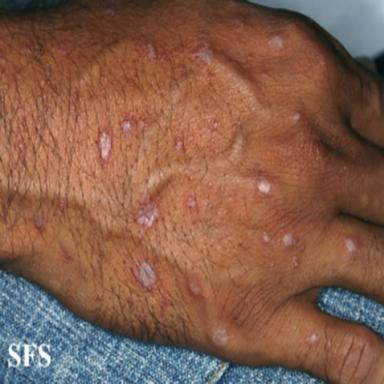lichen: (136, 203, 158, 227), (139, 262, 155, 288), (99, 131, 111, 159), (211, 328, 228, 346), (197, 45, 213, 64), (268, 36, 283, 50), (188, 281, 201, 296), (258, 180, 271, 194), (345, 238, 355, 254), (307, 331, 319, 344), (147, 43, 156, 60), (283, 234, 293, 246), (35, 215, 43, 229), (186, 198, 197, 208), (291, 112, 301, 123), (291, 256, 300, 268), (175, 138, 183, 151), (122, 121, 131, 132), (262, 232, 270, 244)
